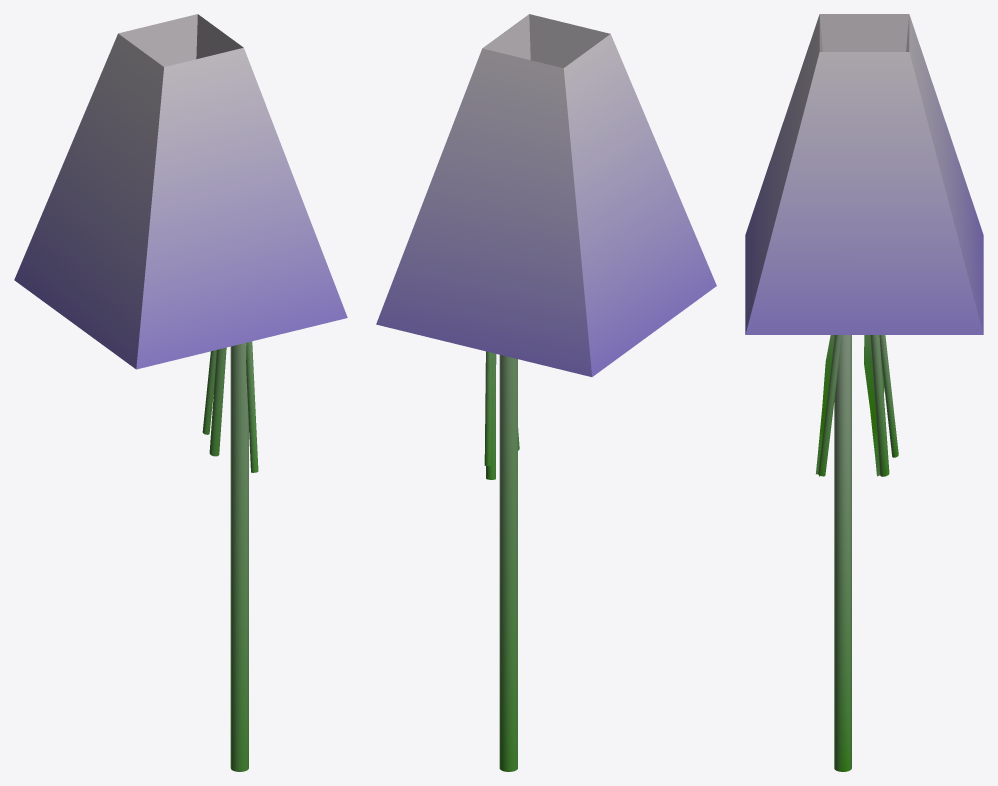
File: Flower.glb
3 renders of one model, left to right at view 1: azimuth 30°, elevation 25°; view 2: azimuth 150°, elevation 25°; view 3: azimuth 270°, elevation 25°, orthographic. The views are drawn at different scales.
Parts seen in each view (by area): view 1: Cube, Cylinder.006, Cylinder.004, Cylinder.001, Cylinder.007; view 2: Cube, Cylinder.006, Cylinder.007; view 3: Cube, Cylinder.006, Cylinder.004, Cylinder.001, Sphere.011, Cylinder.007, Sphere.005.
Part boxes in pixels (x1,y1,x2,y2): Cube: [14, 14, 347, 369]; Cylinder.006: [230, 342, 248, 771]; Cylinder.004: [209, 347, 226, 456]; Cylinder.001: [246, 341, 258, 472]; Cylinder.007: [202, 350, 216, 434]; Cube: [376, 14, 716, 376]; Cylinder.006: [499, 355, 517, 771]; Cylinder.007: [484, 351, 492, 466]; Cube: [745, 14, 983, 334]; Cylinder.006: [834, 335, 851, 771]; Cylinder.004: [870, 335, 889, 476]; Cylinder.001: [818, 335, 841, 476]; Sphere.011: [864, 335, 884, 476]; Cylinder.007: [879, 335, 898, 457]; Sphere.005: [816, 335, 834, 476].
Size of the model in its own units: 3 by 9.89 by 3.
